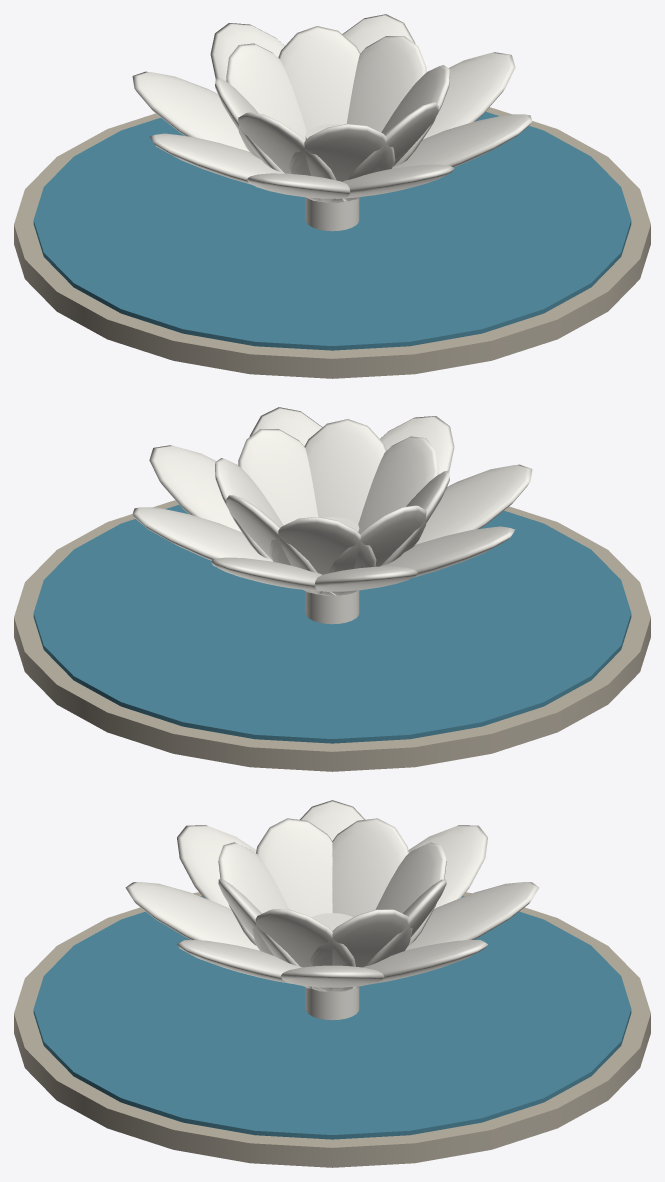
The model's file is shapla-chattar.glb.
3 renders of one model, top to bottom at view 1: azimuth 30°, elevation 25°; view 2: azimuth 150°, elevation 25°; view 3: azimuth 270°, elevation 25°, orthographic.
Parts seen in each view (by area): view 1: shapla-chattar; view 2: shapla-chattar; view 3: shapla-chattar.
Part boxes in pixels (bbox=[...]): shapla-chattar: bbox=[14, 14, 650, 378]; shapla-chattar: bbox=[14, 407, 650, 771]; shapla-chattar: bbox=[14, 800, 650, 1167].
Size of the model in its own units: 26 by 7.6 by 26.
